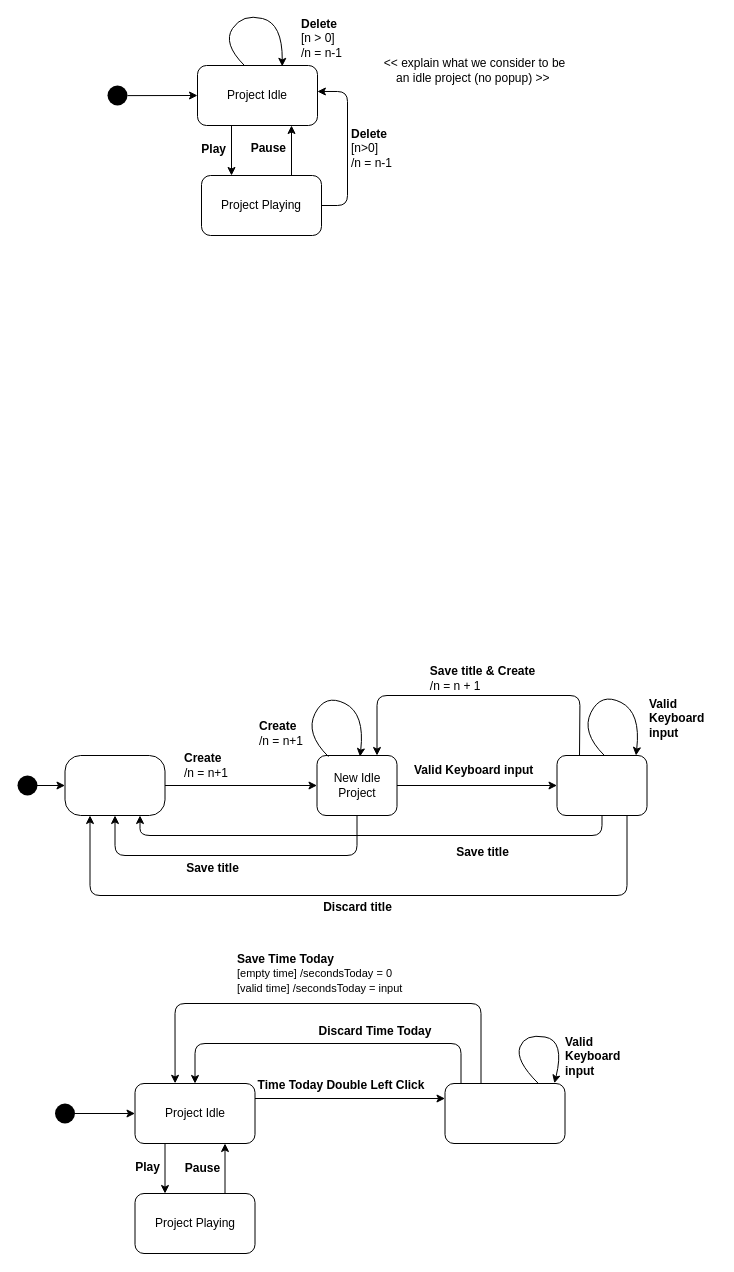
Some shapes in this 734 by 1272 pixel diagram are drawn without their labels. The shapes that lost their labels are listed below. From the top down, each one's centre as x and y in pixels, then its label:
At point (114, 785): "No Popup Opened".
At point (601, 785): "Edit Title".
At point (504, 1113): "Time Today Edition".
